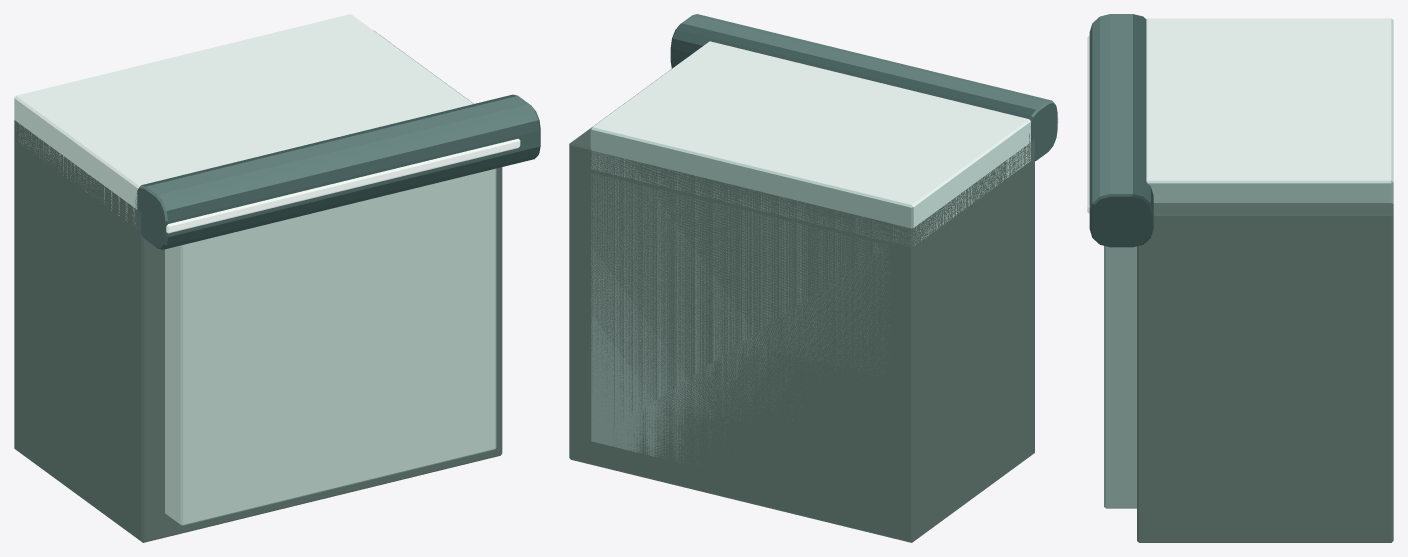
The model's file is Terrain_TopRun1R.gltf.
The picture shows the model from 3 angles, left to right: view 1: azimuth 30°, elevation 25°; view 2: azimuth 150°, elevation 25°; view 3: azimuth 270°, elevation 25°; orthographic projection. The views are drawn at different scales.
Visible parts, largest first — view 1: Terrain_TopRun1R_baked; view 2: Terrain_TopRun1R_baked; view 3: Terrain_TopRun1R_baked.
Boxes of the visible parts, box(x1,y1,x2,y2) form: Terrain_TopRun1R_baked: box(14, 14, 540, 542); Terrain_TopRun1R_baked: box(569, 14, 1058, 542); Terrain_TopRun1R_baked: box(1087, 14, 1393, 542).
Size of the model in its own units: 1.04 by 0.9495 by 0.74.
